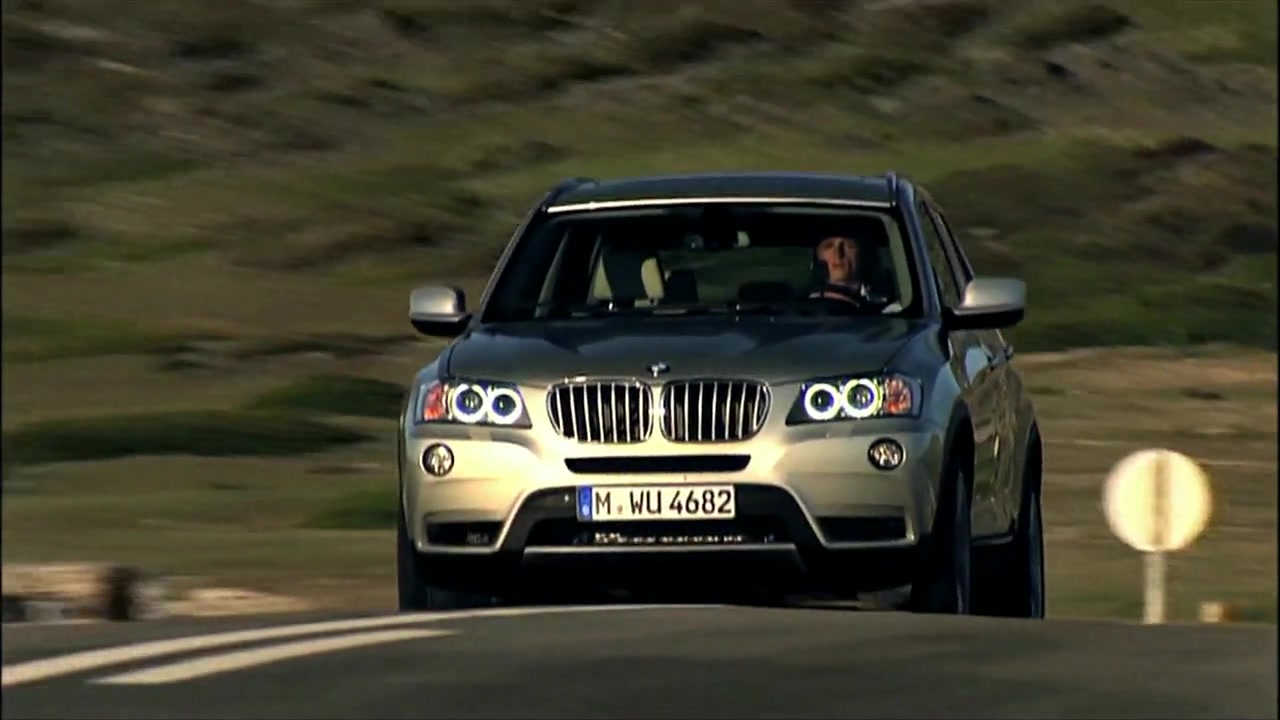car: (392, 170, 1055, 631)
